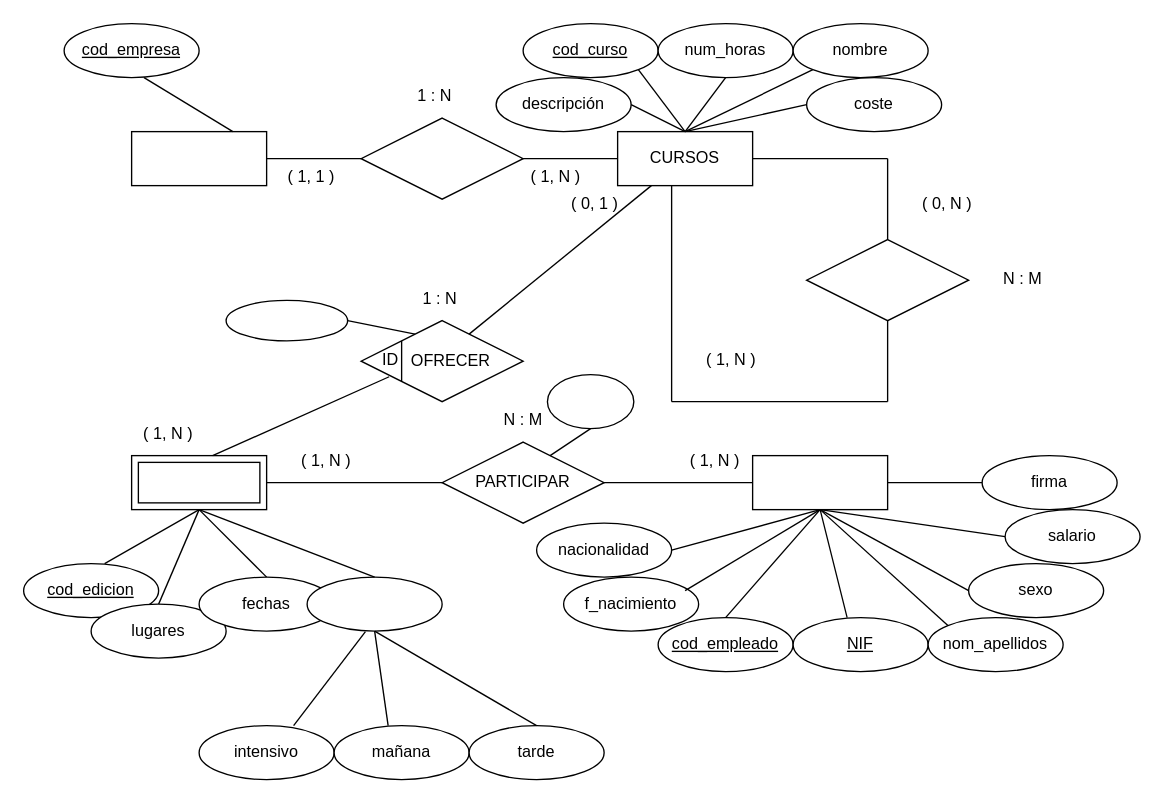
The diagram is 1164 pixels wide and 803 high, and some of its shapes have lost their labels. The centre of each missing label's shape, as x and y in pixels:
15 alumnos: the point at 286,320
capacitado: the point at 590,401
EDICIONES: the point at 198,482
EMPLEADOS: the point at 819,482
EMPRESA: the point at 198,158
horario: the point at 374,603
ORGANIZAR: the point at 441,158
PREREQUISITO: the point at 887,279
